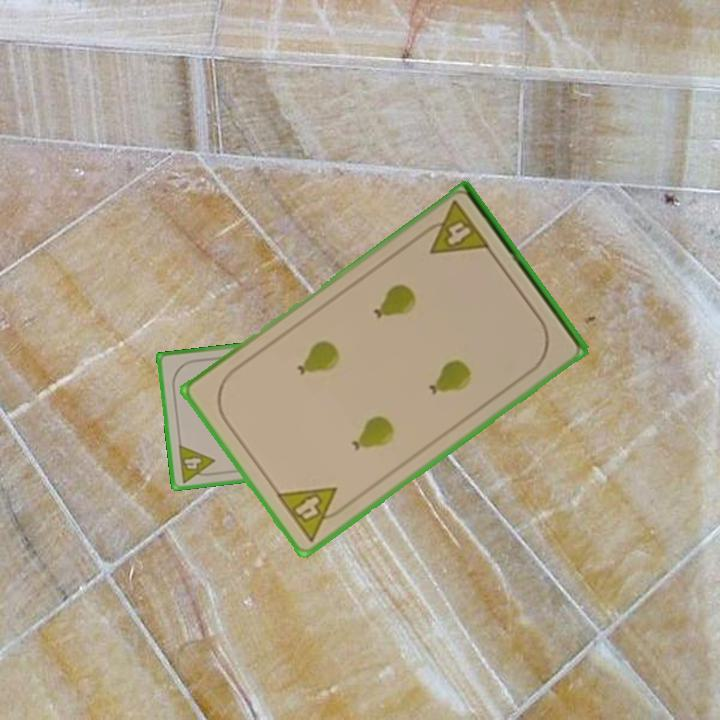4p: (272, 483, 352, 545), (416, 197, 493, 258), (175, 441, 219, 485)
